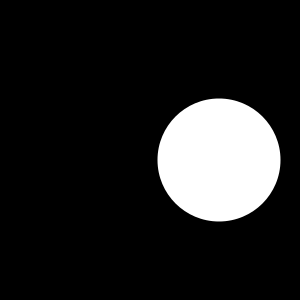rectangle: (158, 99, 280, 222)
